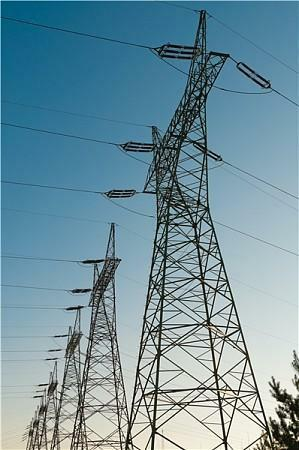power_tower: (130, 6, 277, 450), (73, 221, 129, 450), (52, 300, 88, 449)
